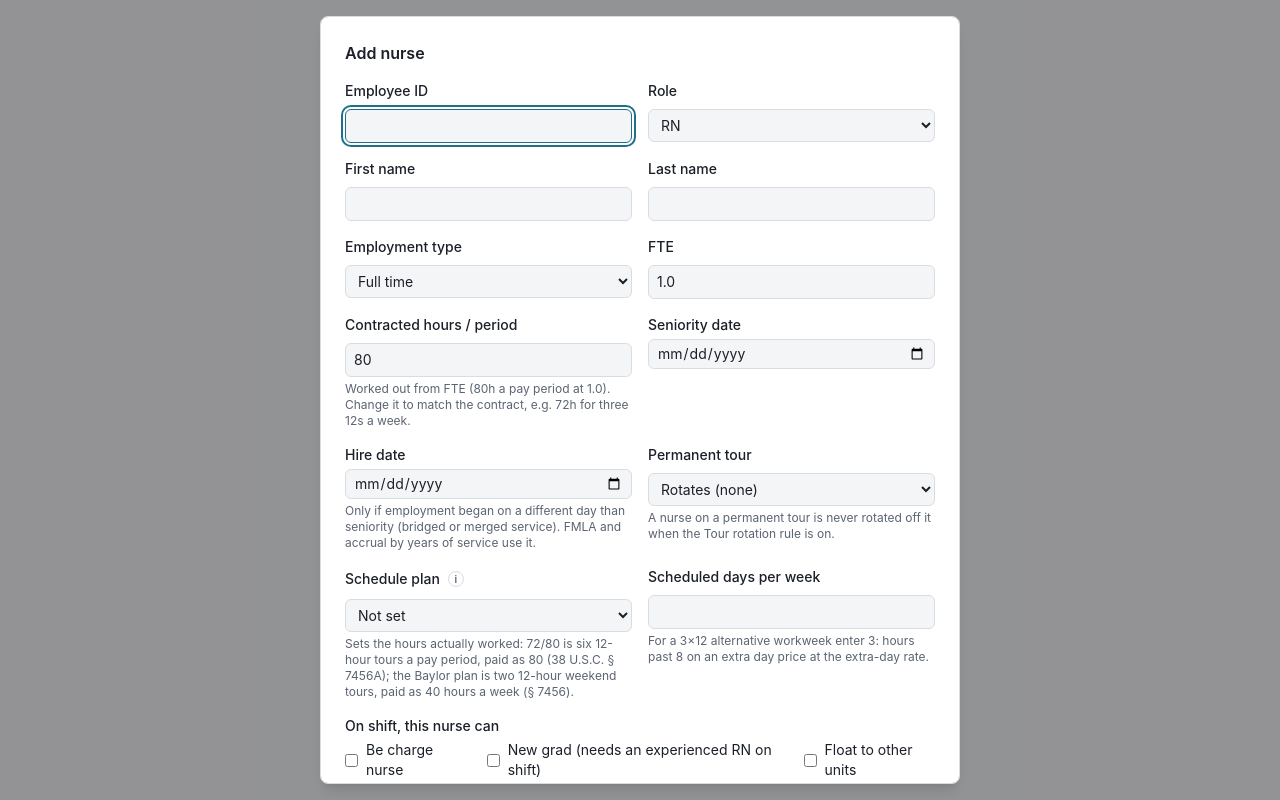
Test: the nurse form › refuses more contracted hours than a pay period holds
Type "E1" into the field labelled "Employee ID" at [488, 126], box [345,109,632,143]
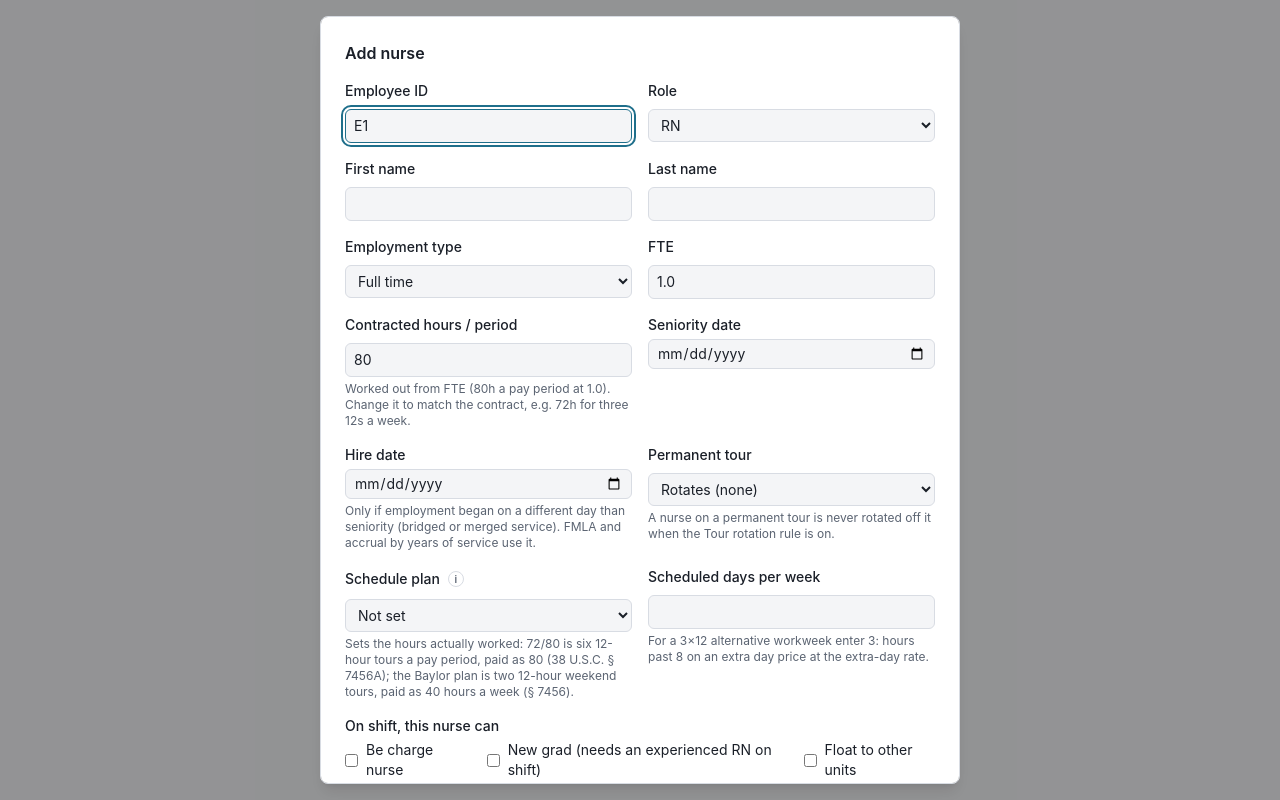
Type "Ana" into the field labelled "First name" at [488, 204], box [345,187,632,221]
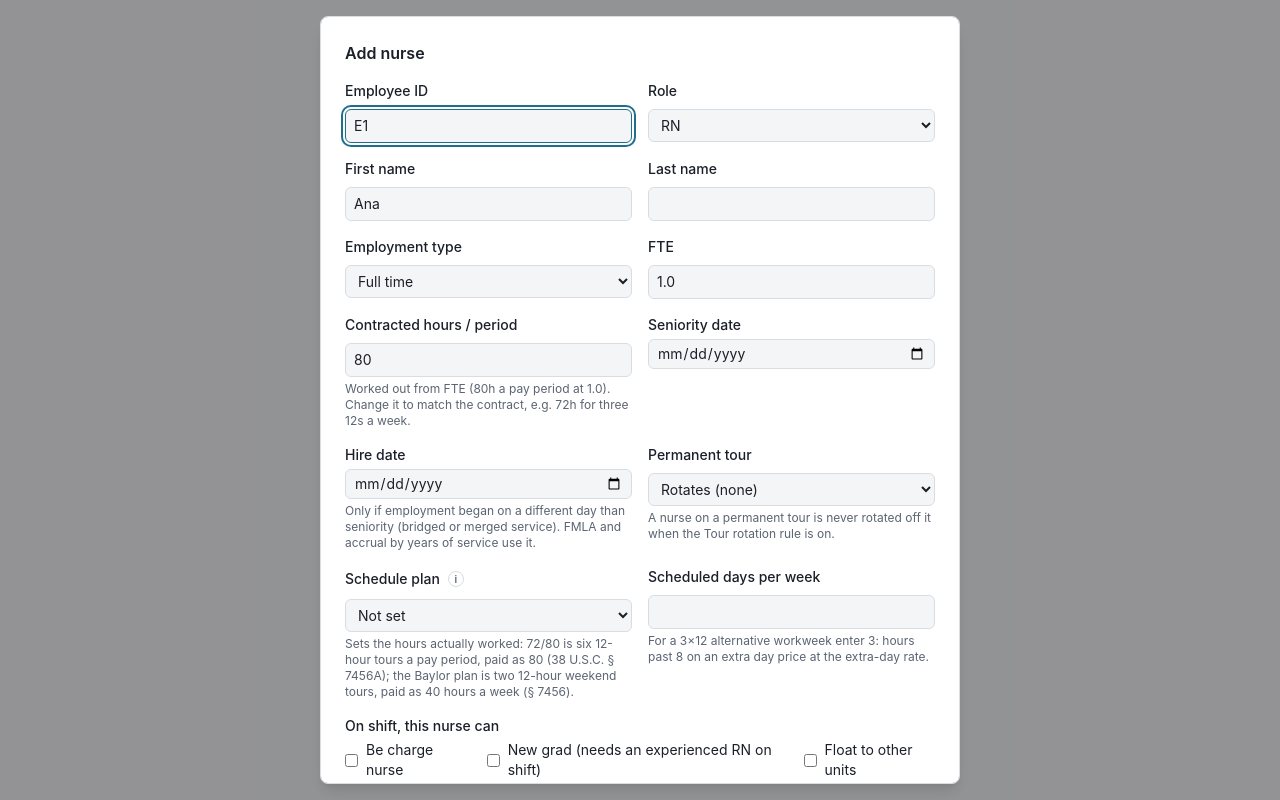
Type "Cruz" into the field labelled "Last name" at [792, 204], box [648,187,935,221]
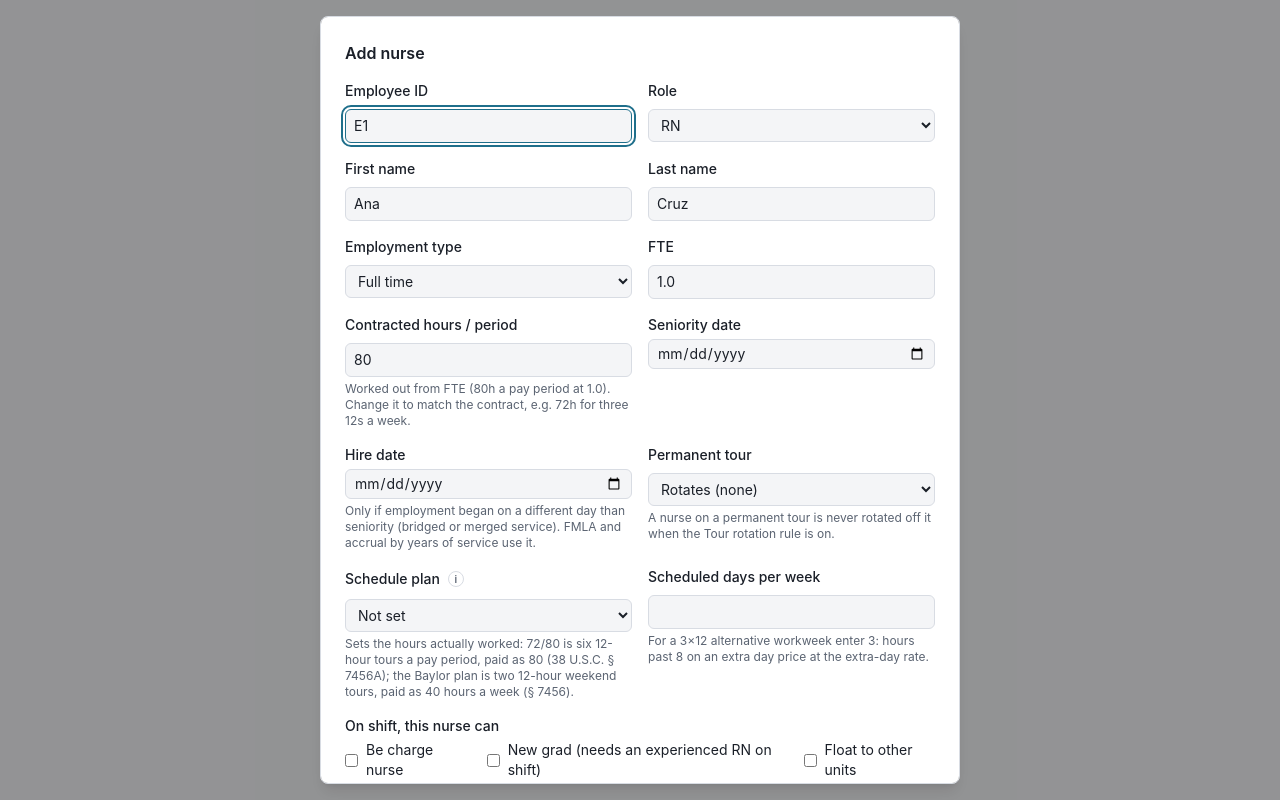
Type "2020-01-06" into the date field labelled "Seniority date" at [792, 354], box [648,339,935,369]
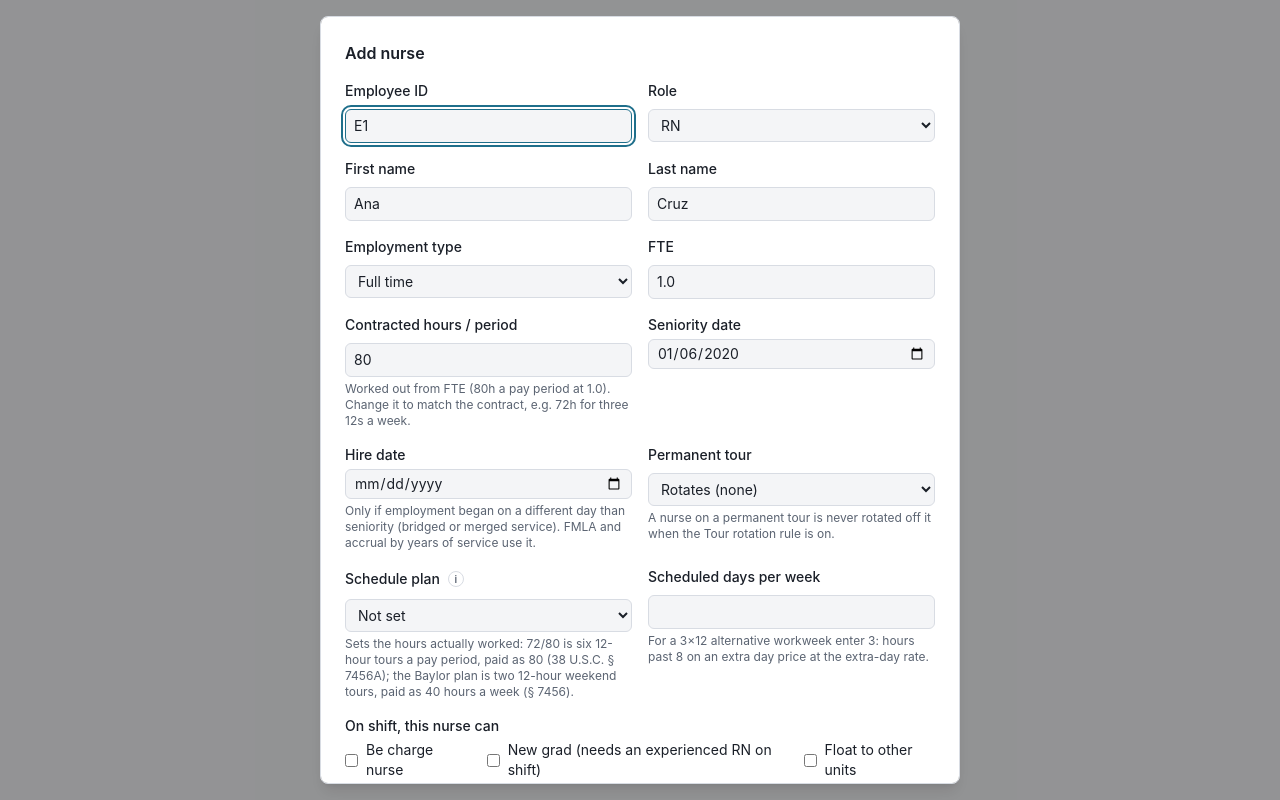
Replace the text in the number field labelled "Contracted hours / period" with "400" at [488, 360], box [345,343,632,377]
(page scrolled)
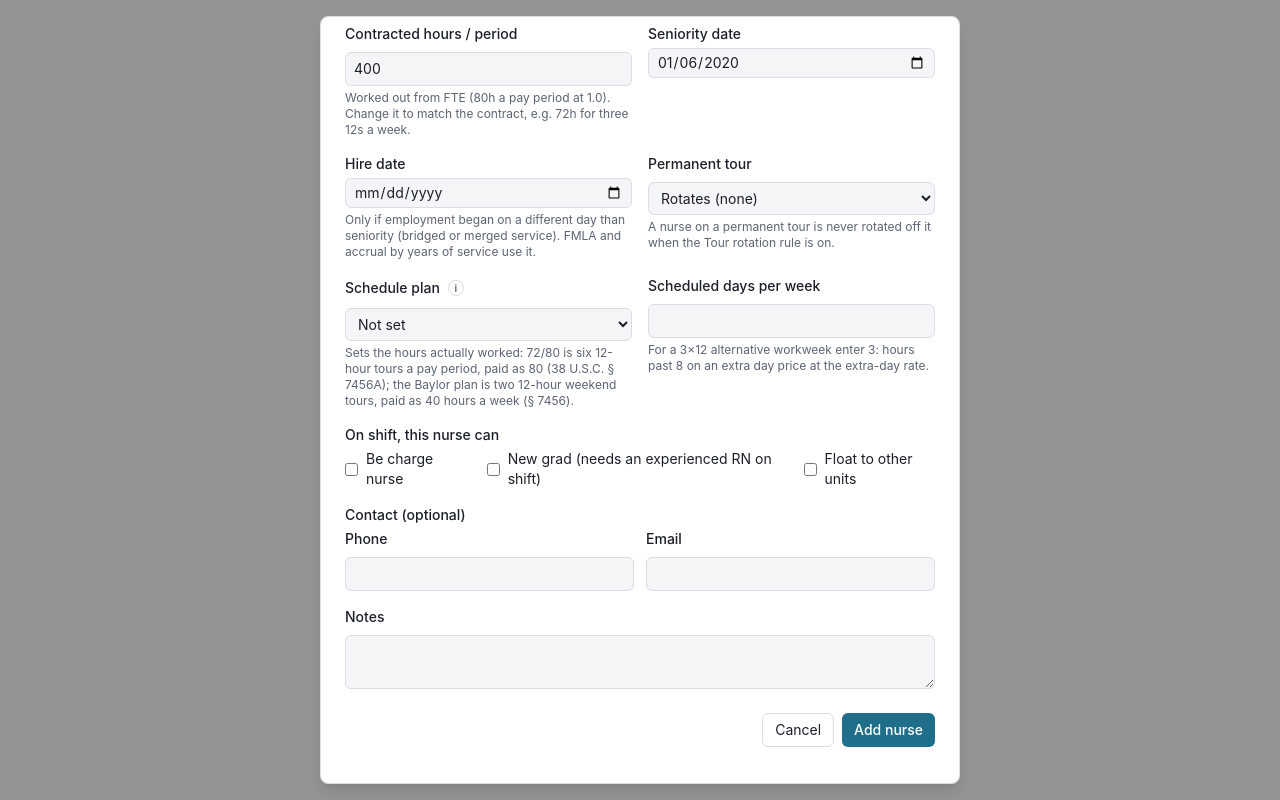
Click the button "Add nurse" at [889, 730], box [842,713,935,747]
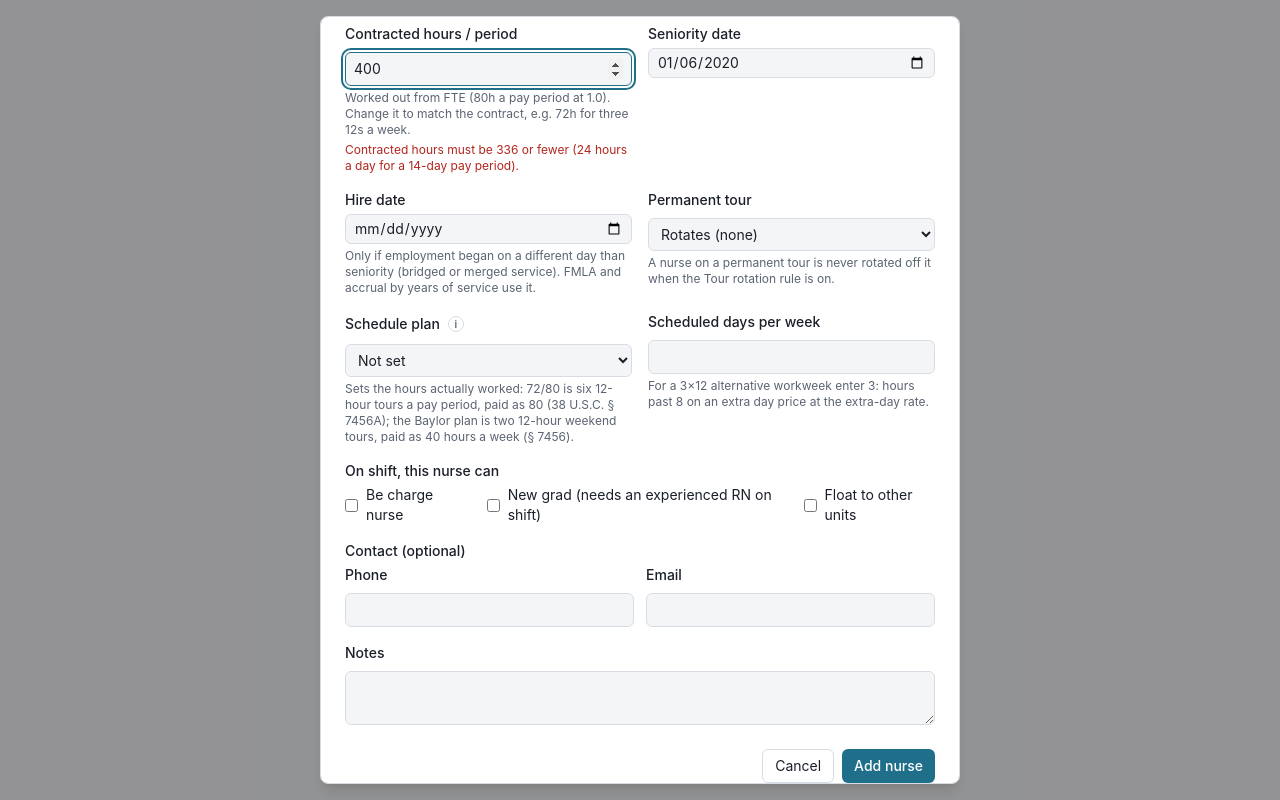
Now the text "Contracted hours must be 336 or fewer (24 hours a day for a 14-day pay period)." is shown, box [345,142,632,174]
